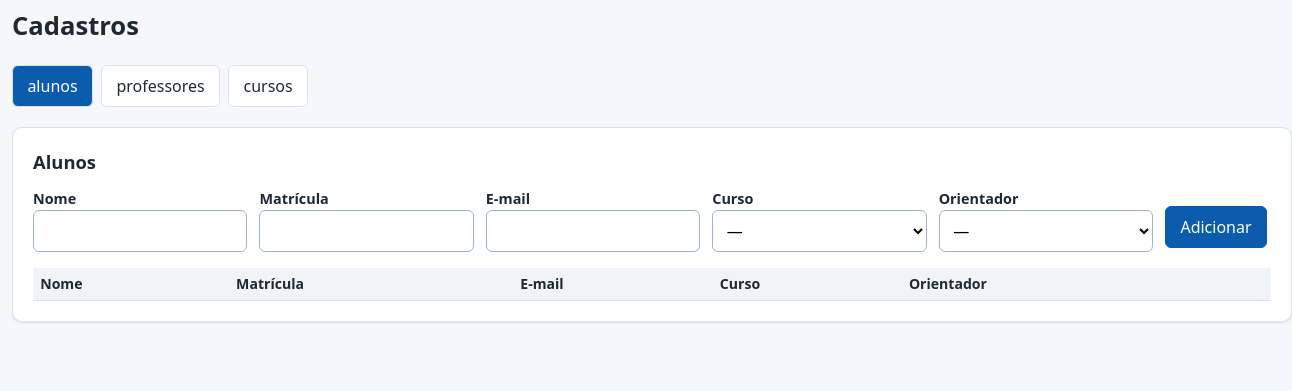
it: Administração › cadastra aluno mandando null nos campos vazios
Type "Ana" into the field labelled "Nome". click: [140, 231]
box: [33,210,247,252]
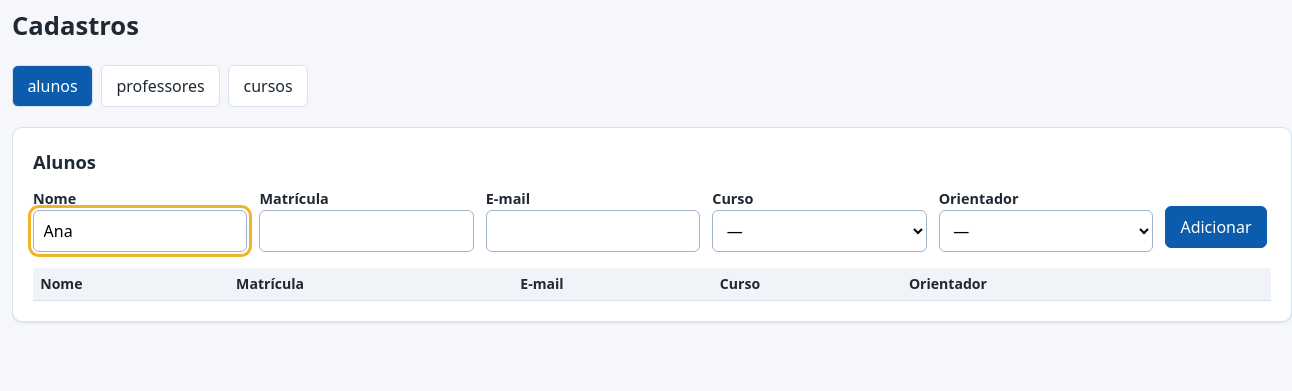
Type "2026001" into the field labelled "Matrícula". click: [367, 231]
box: [259,210,474,252]
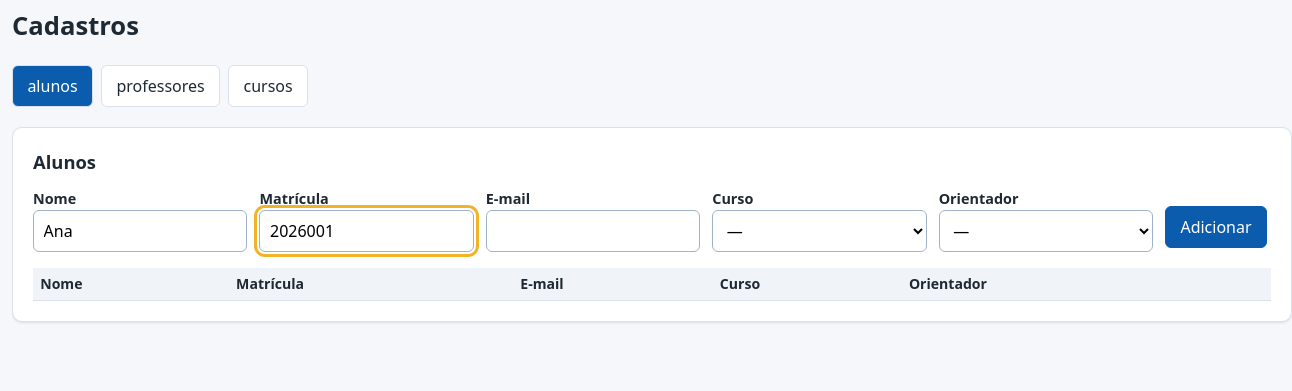
Type "ana@ufvjm.edu.br" into the field labelled "E-mail". click: [593, 231]
box: [486,210,700,252]
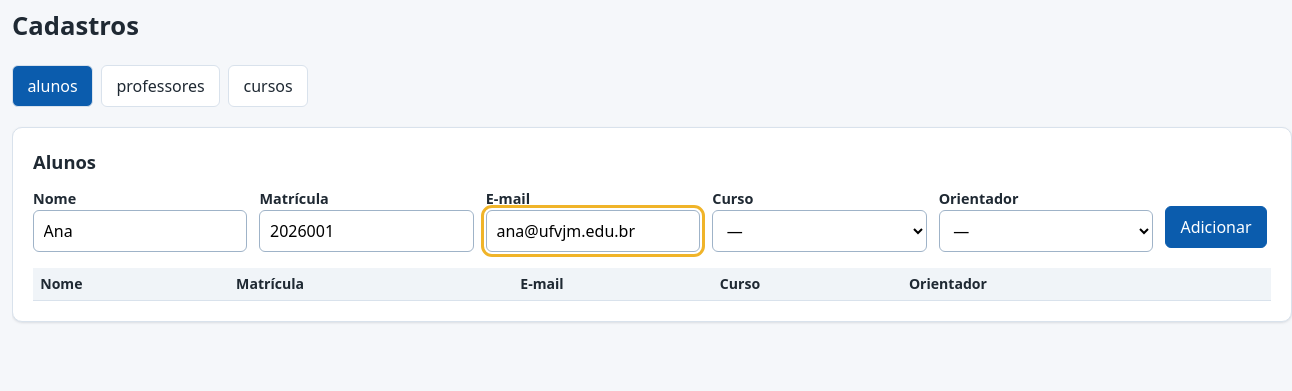
Select "SI" in the dropdown labelled "Curso". click: [819, 231]
box: [712,210,927,252]
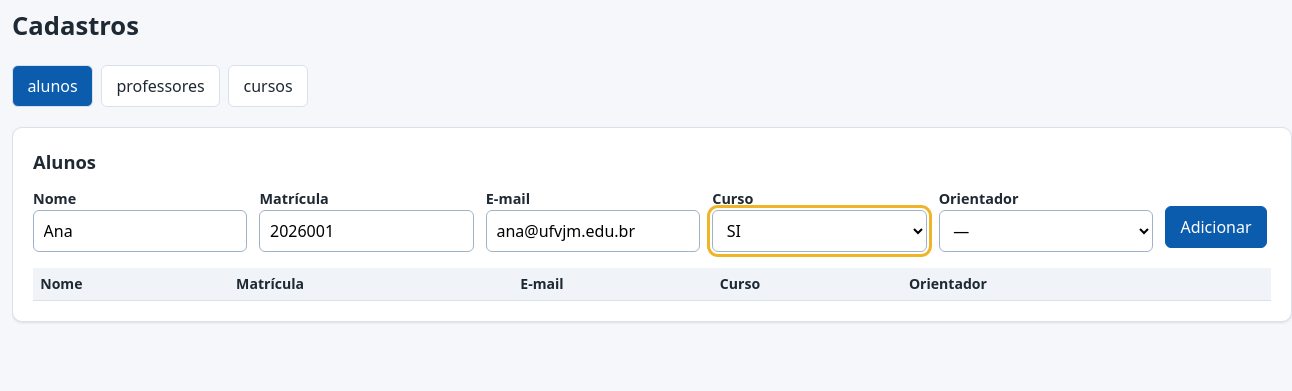
Click the button "Adicionar". click: [1216, 227]
box: [1165,206,1267,248]
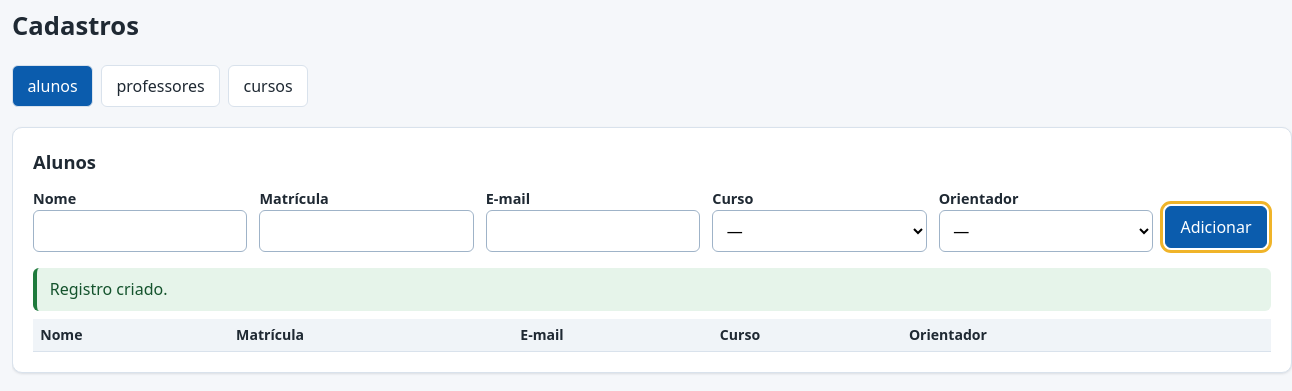
Expected: the text "Registro criado." is shown, [33,268,1271,311]
